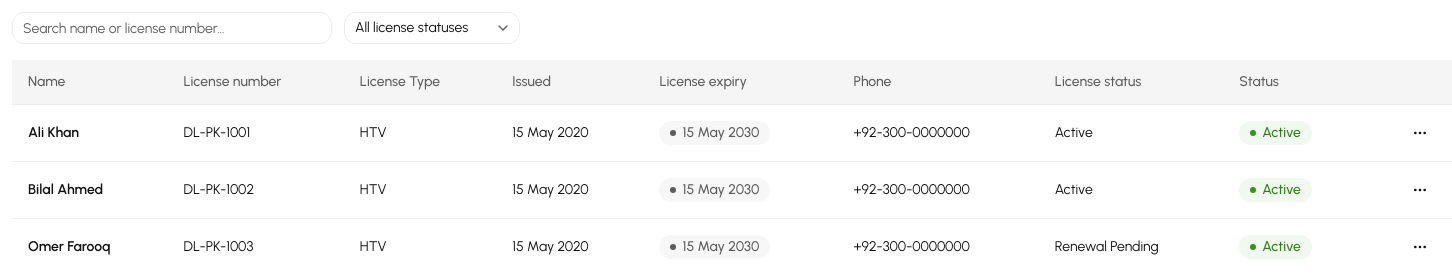
Test: Drivers filters › filters by license status, offering only the statuses present in the data
Click the dropdown named "Filter by license status" at {"x": 432, "y": 28}, box [344,12,520,44]
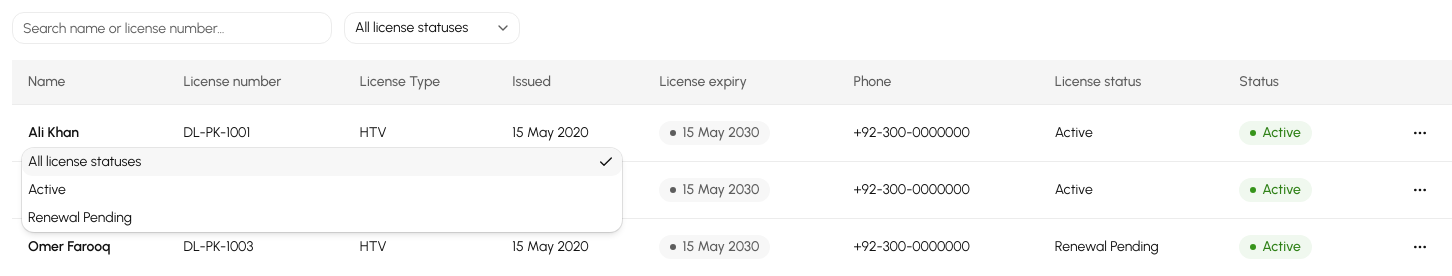
Now the option "Renewal Pending" is shown
Click the option "Renewal Pending" at {"x": 80, "y": 218}, box [28,209,132,226]
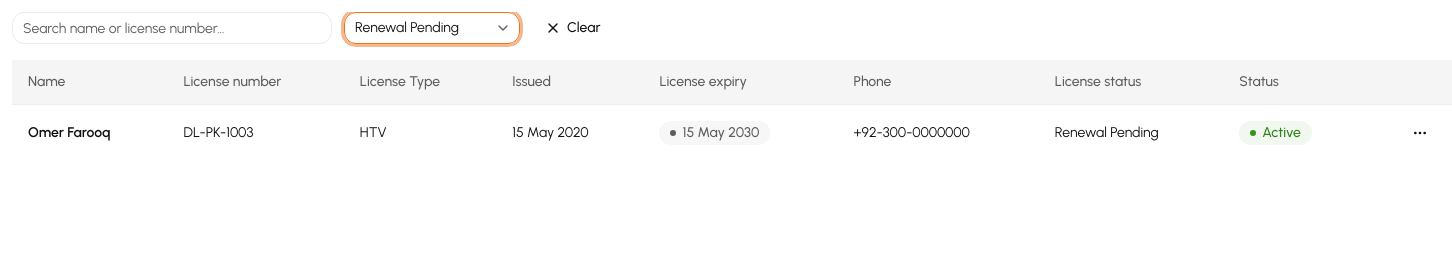
Expected: the link "Omer Farooq" is shown, [28,124,111,140]
Now the link "Ali Khan" is gone
